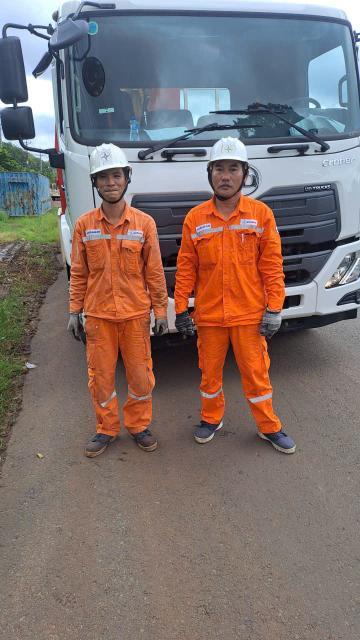gloves: (258, 305, 287, 342), (61, 310, 92, 341), (174, 297, 195, 335), (152, 308, 174, 332)
helmet: (76, 140, 139, 187), (193, 136, 258, 173)
shoes: (70, 425, 122, 462), (254, 427, 313, 456), (187, 411, 223, 446), (127, 424, 163, 456)
